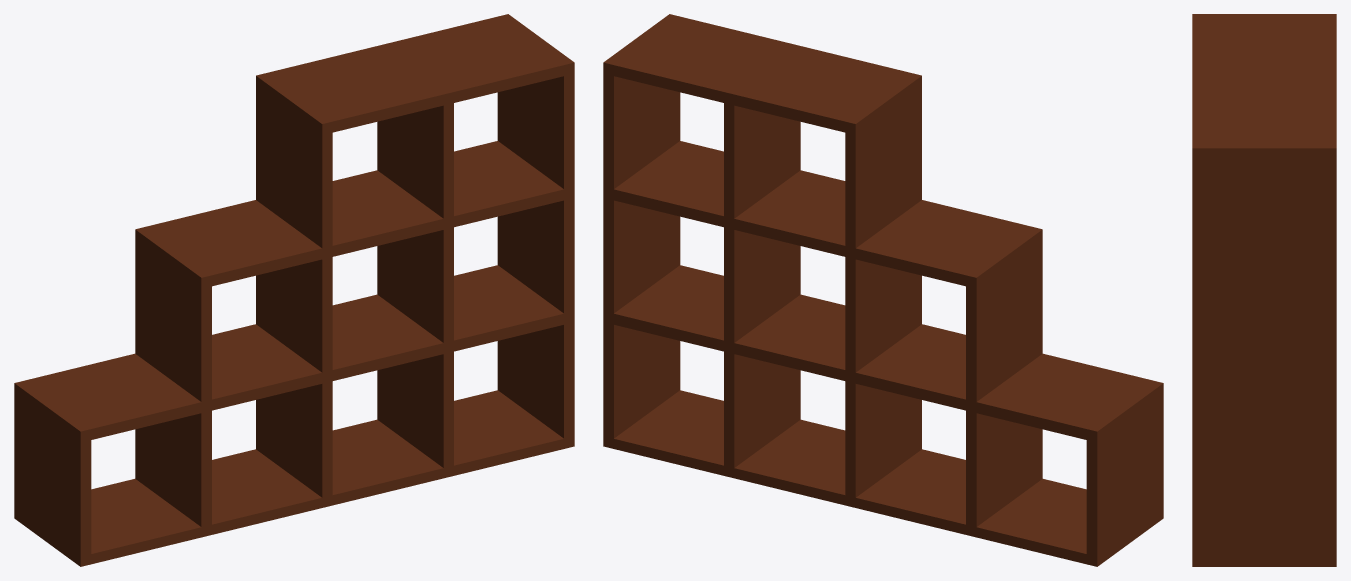
Rendered from Etagere3.fbx.
3 views of the same model, side by side, from view 1: azimuth 30°, elevation 25°; view 2: azimuth 150°, elevation 25°; view 3: azimuth 270°, elevation 25° (orthographic). The views are drawn at different scales.
Parts seen in each view (by area): view 1: Etagere3; view 2: Etagere3; view 3: Etagere3.
Boxes of the visible parts, left/top/right/bottom form: Etagere3: left=14, top=14, right=574, bottom=566; Etagere3: left=603, top=14, right=1163, bottom=566; Etagere3: left=1192, top=14, right=1336, bottom=566.
Size of the model in its own units: 232 by 172 by 53.85.
